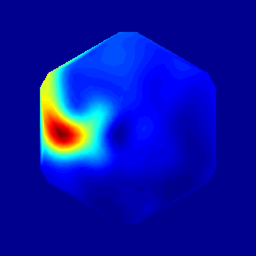ship: (98, 116, 125, 149)
wave: (44, 109, 104, 154)
